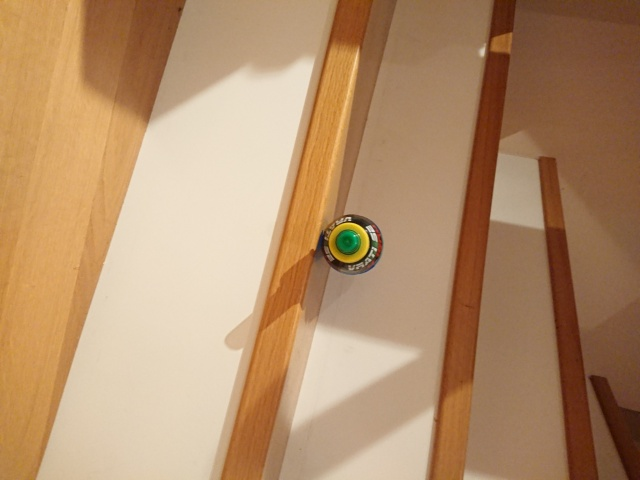Vindi Iso Sport Forest Strawberries 500mL: (319, 212, 384, 276)
